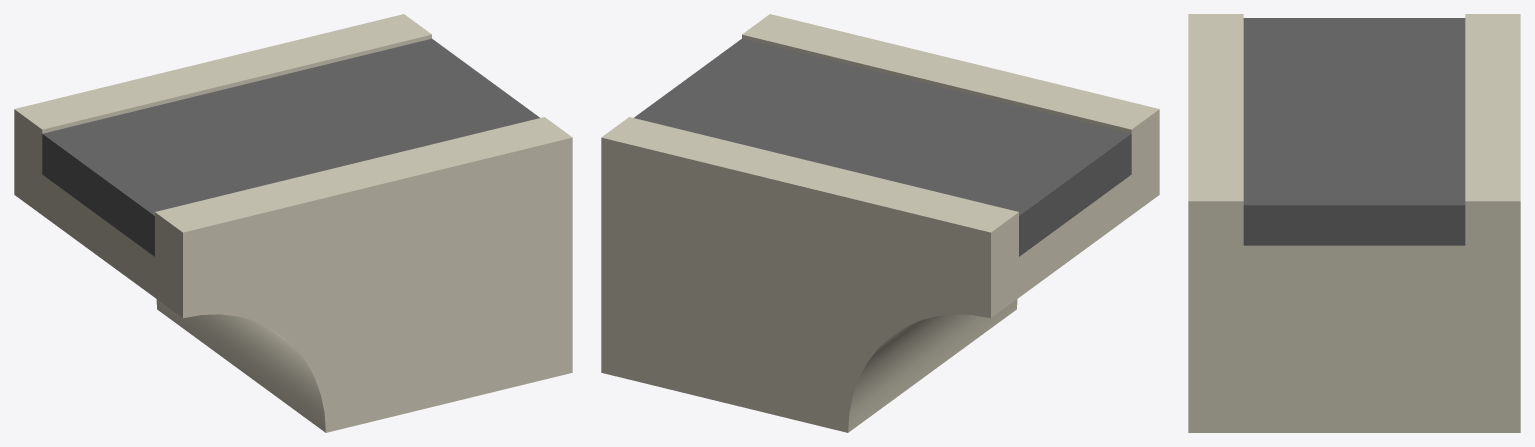
The model's file is tile249.dae.
The picture shows the model from 3 angles, left to right: view 1: azimuth 30°, elevation 25°; view 2: azimuth 150°, elevation 25°; view 3: azimuth 270°, elevation 25°; orthographic projection.
Visible parts, largest first — view 1: tile249; view 2: tile249; view 3: tile249.
Boxes of the visible parts, box(x1,y1,x2,y2) form: tile249: box(14, 14, 572, 432); tile249: box(601, 14, 1159, 432); tile249: box(1188, 14, 1520, 432).
Bounding box in the file's own units: 1 × 0.5767 × 0.75.
